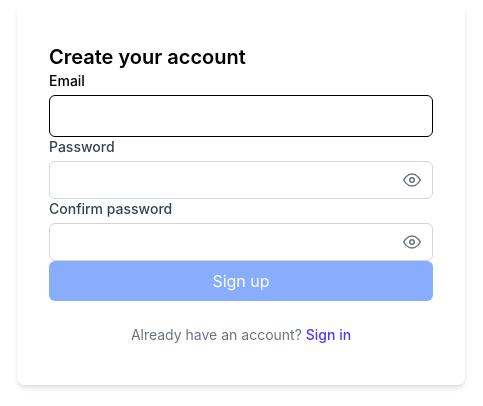
Scenario: RegistrationForm › AC-2: enables submit only once all fields are valid and passwords match
Check: the button "Sign up" is disabled, box [49,261,433,301]
In the field labelled "Email": (241, 116) [49,95,433,137], type "new@example.com"
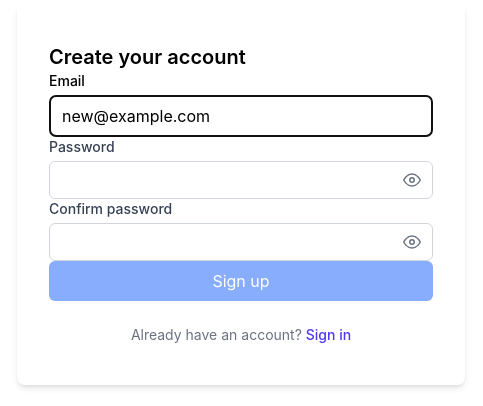
In the password field labelled "Password": (241, 180) [49,161,433,199], type "hunter2hunter2"
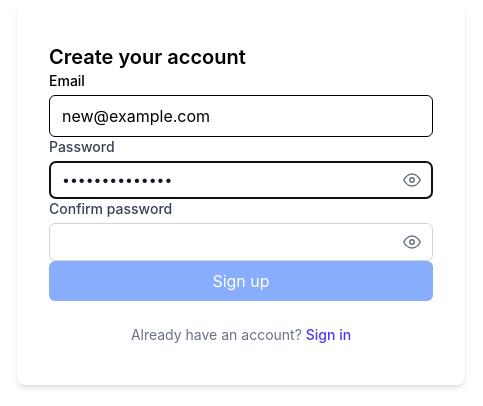
In the password field labelled "Confirm password": (241, 242) [49,223,433,261], type "hunter2hunter2"
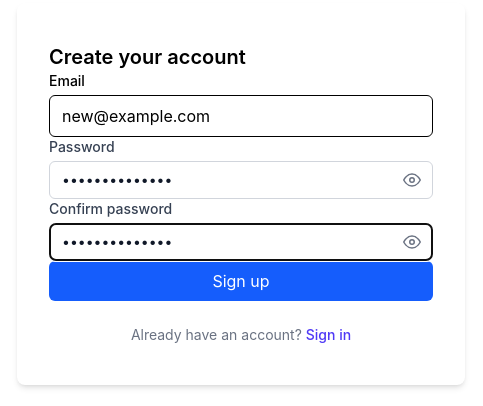
Check: the button "Sign up" is enabled, box [49,261,433,301]
